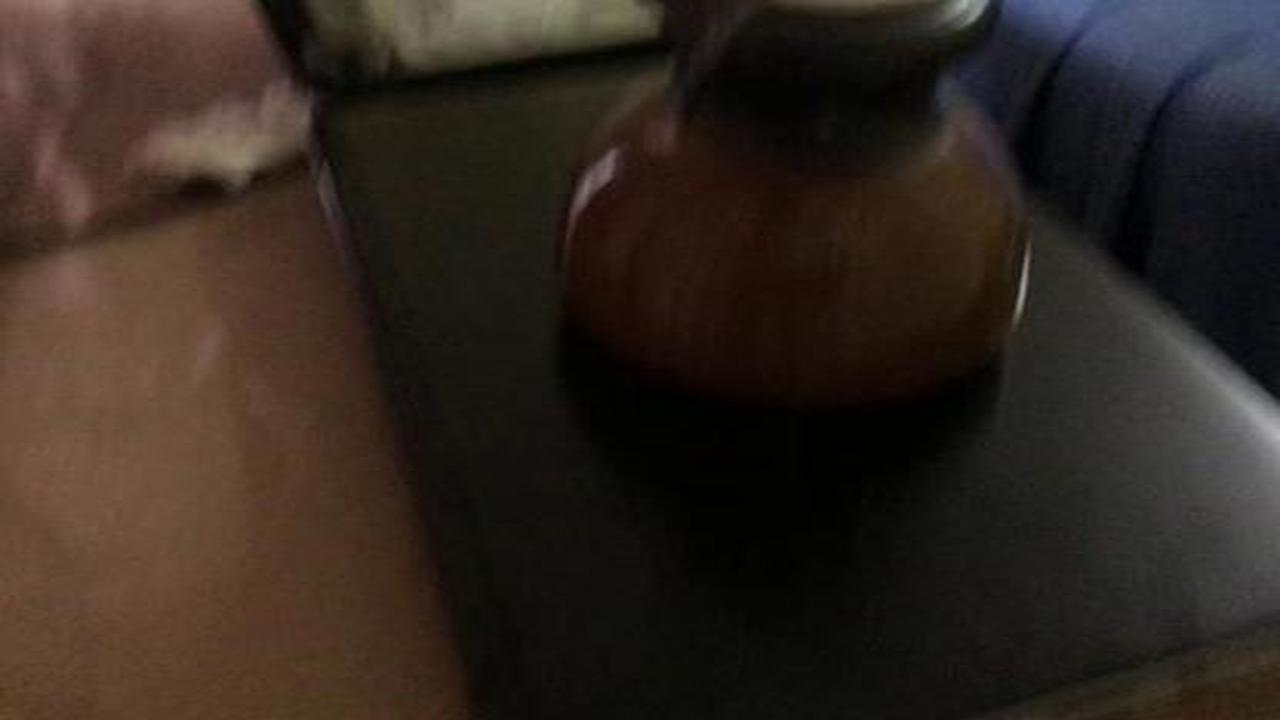insulator_pin: (517, 6, 1056, 414)
